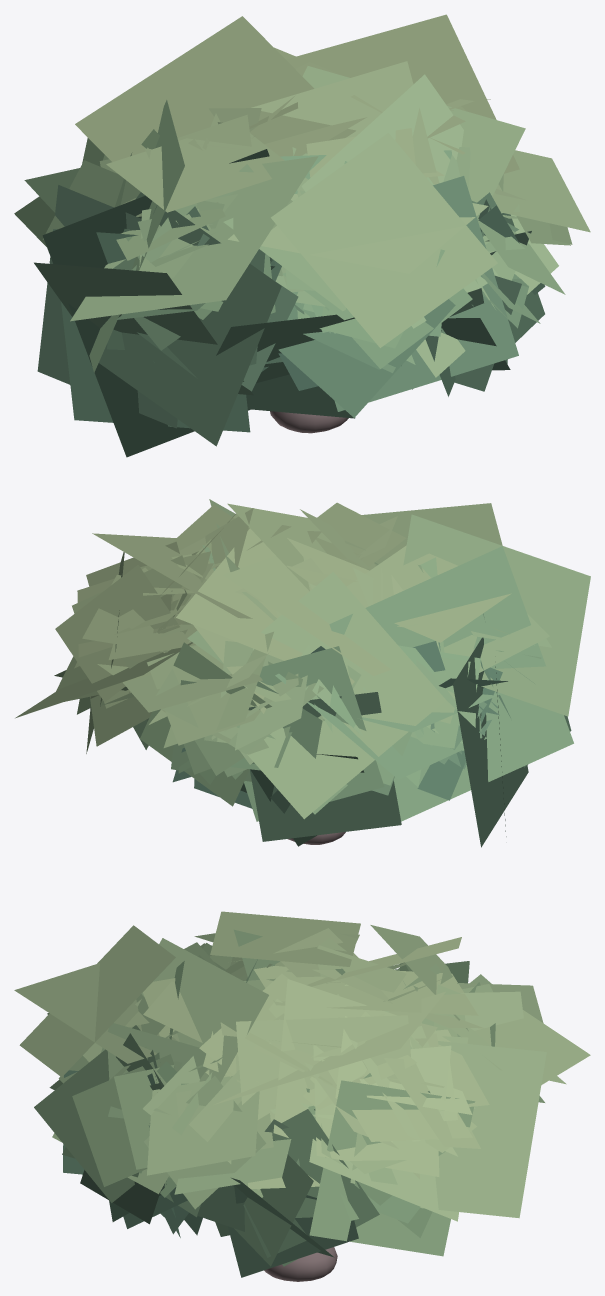
The model's file is ancient_oak_v1.glb.
3 views of the same model, one above another, from view 1: azimuth 30°, elevation 25°; view 2: azimuth 150°, elevation 25°; view 3: azimuth 270°, elevation 25° (orthographic). The views are drawn at different scales.
Visible parts, largest first — view 1: far, near; view 2: far, near; view 3: near, far.
Boxes of the visible parts, x1,y1,x2,y2 form: far: (14, 14, 558, 457); near: (42, 83, 590, 433); far: (15, 499, 590, 847); near: (55, 502, 551, 846); near: (34, 928, 590, 1281); far: (14, 911, 546, 1256).
Bounding box in the file's own units: 25.2 × 16.45 × 25.88.
